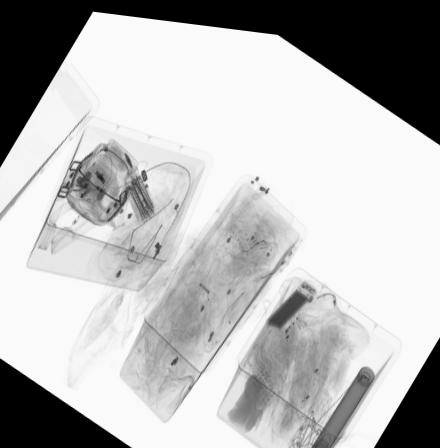Powerbank: (264, 268, 319, 323)
